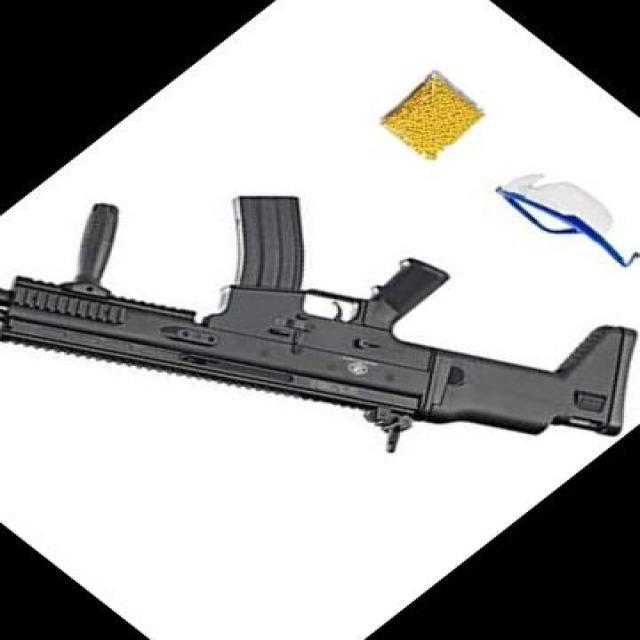weapon: (2, 195, 640, 456)
